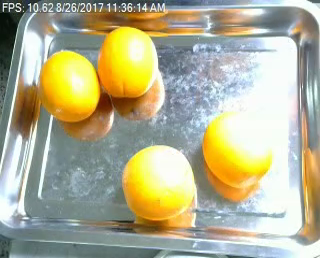Orange: (201, 110, 276, 185), (121, 144, 194, 219), (39, 50, 99, 122), (98, 26, 158, 98)
